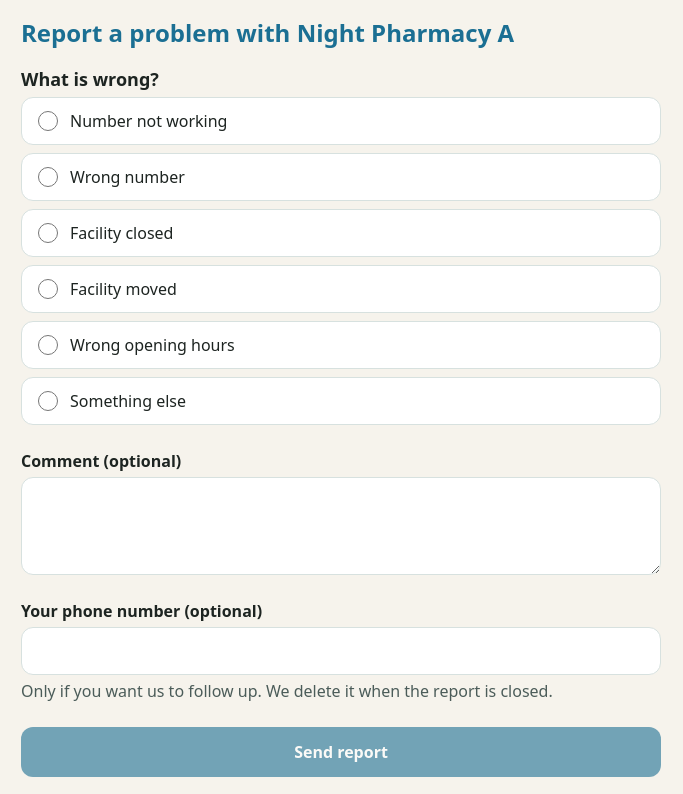
Test: the report page › sends the optional comment and phone, with the privacy sentence next to the phone field
This screenshot has width=683, height=794.
Expected: the heading "Report a problem with Night Pharmacy A" is shown, [21,16,514,49]
Click the radio button labelled "Wrong number". click: (48, 177)
box: [38,167,58,187]
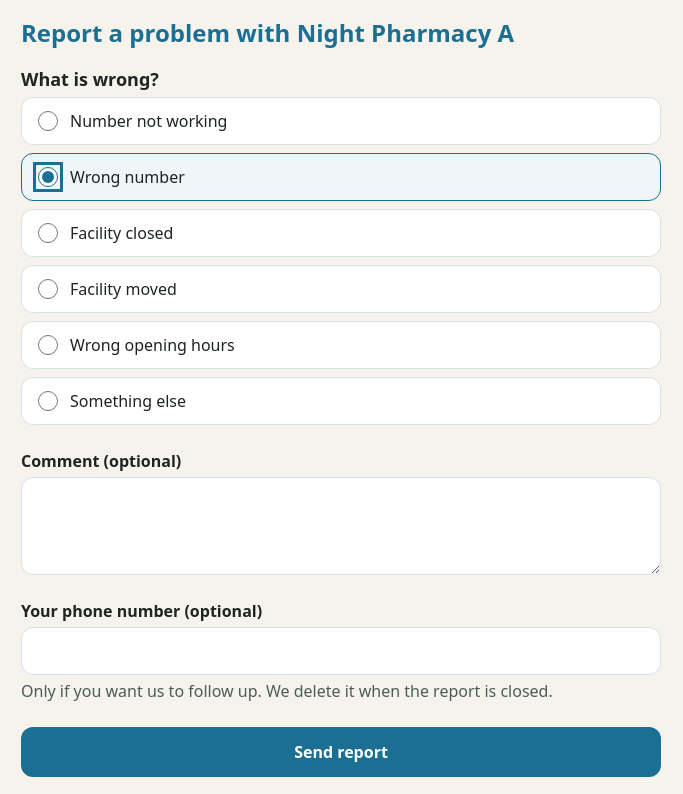
Type "It rang twice" into the text box labelled "Comment (optional)". click: (341, 526)
box: [21,477,661,575]
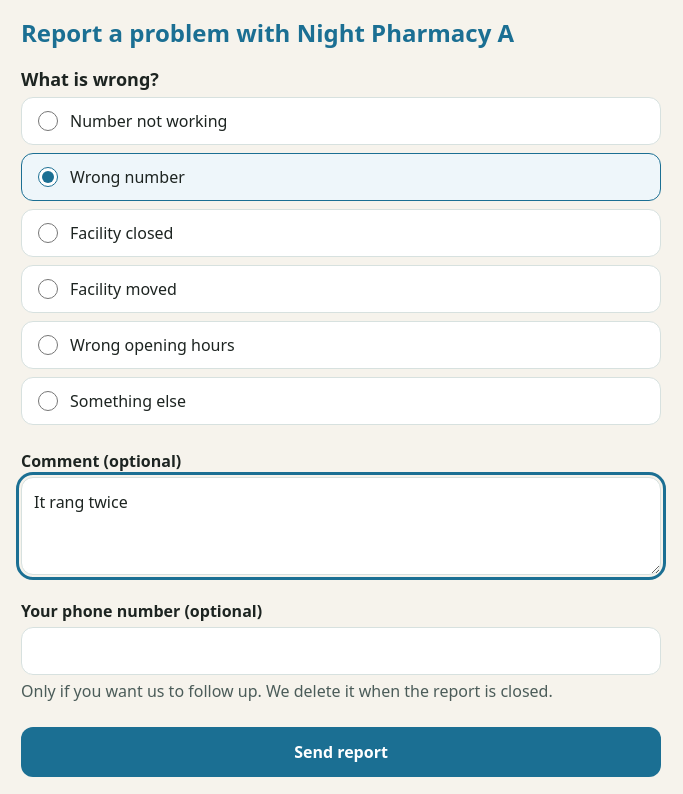
Type "0803 000 0000" into the field labelled "Your phone number (optional)". click: (341, 651)
box: [21,627,661,675]
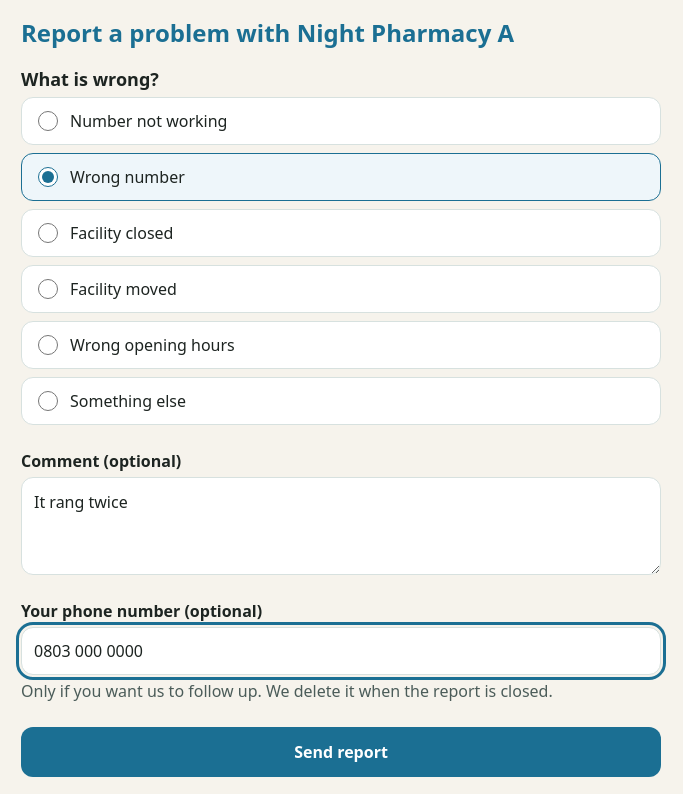
Click the button "Send report". click: (341, 752)
box: [21,727,661,777]
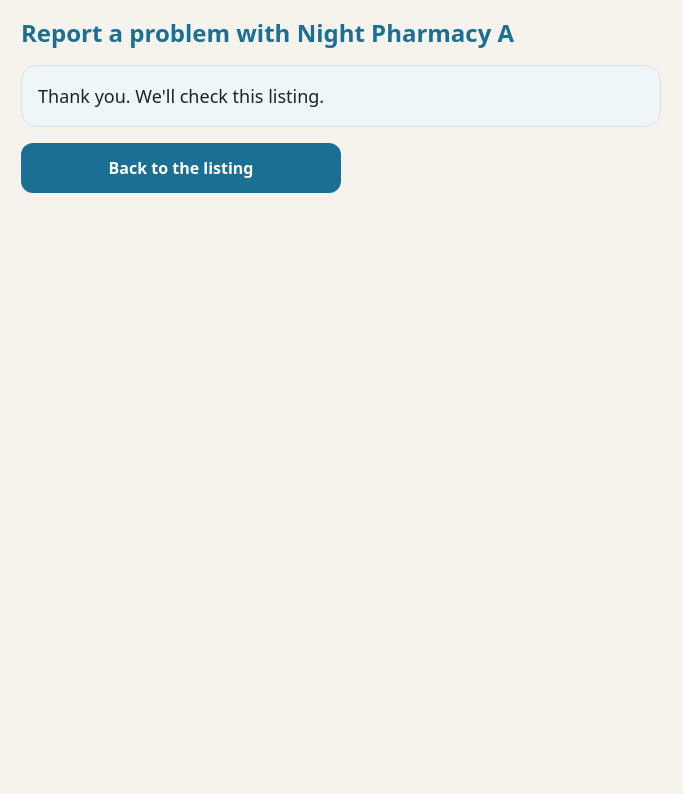
Expected: the text "Thank you. We'll check this listing." is shown, [21,65,661,127]
Expected: the text "Only if you want us to follow up" is gone
